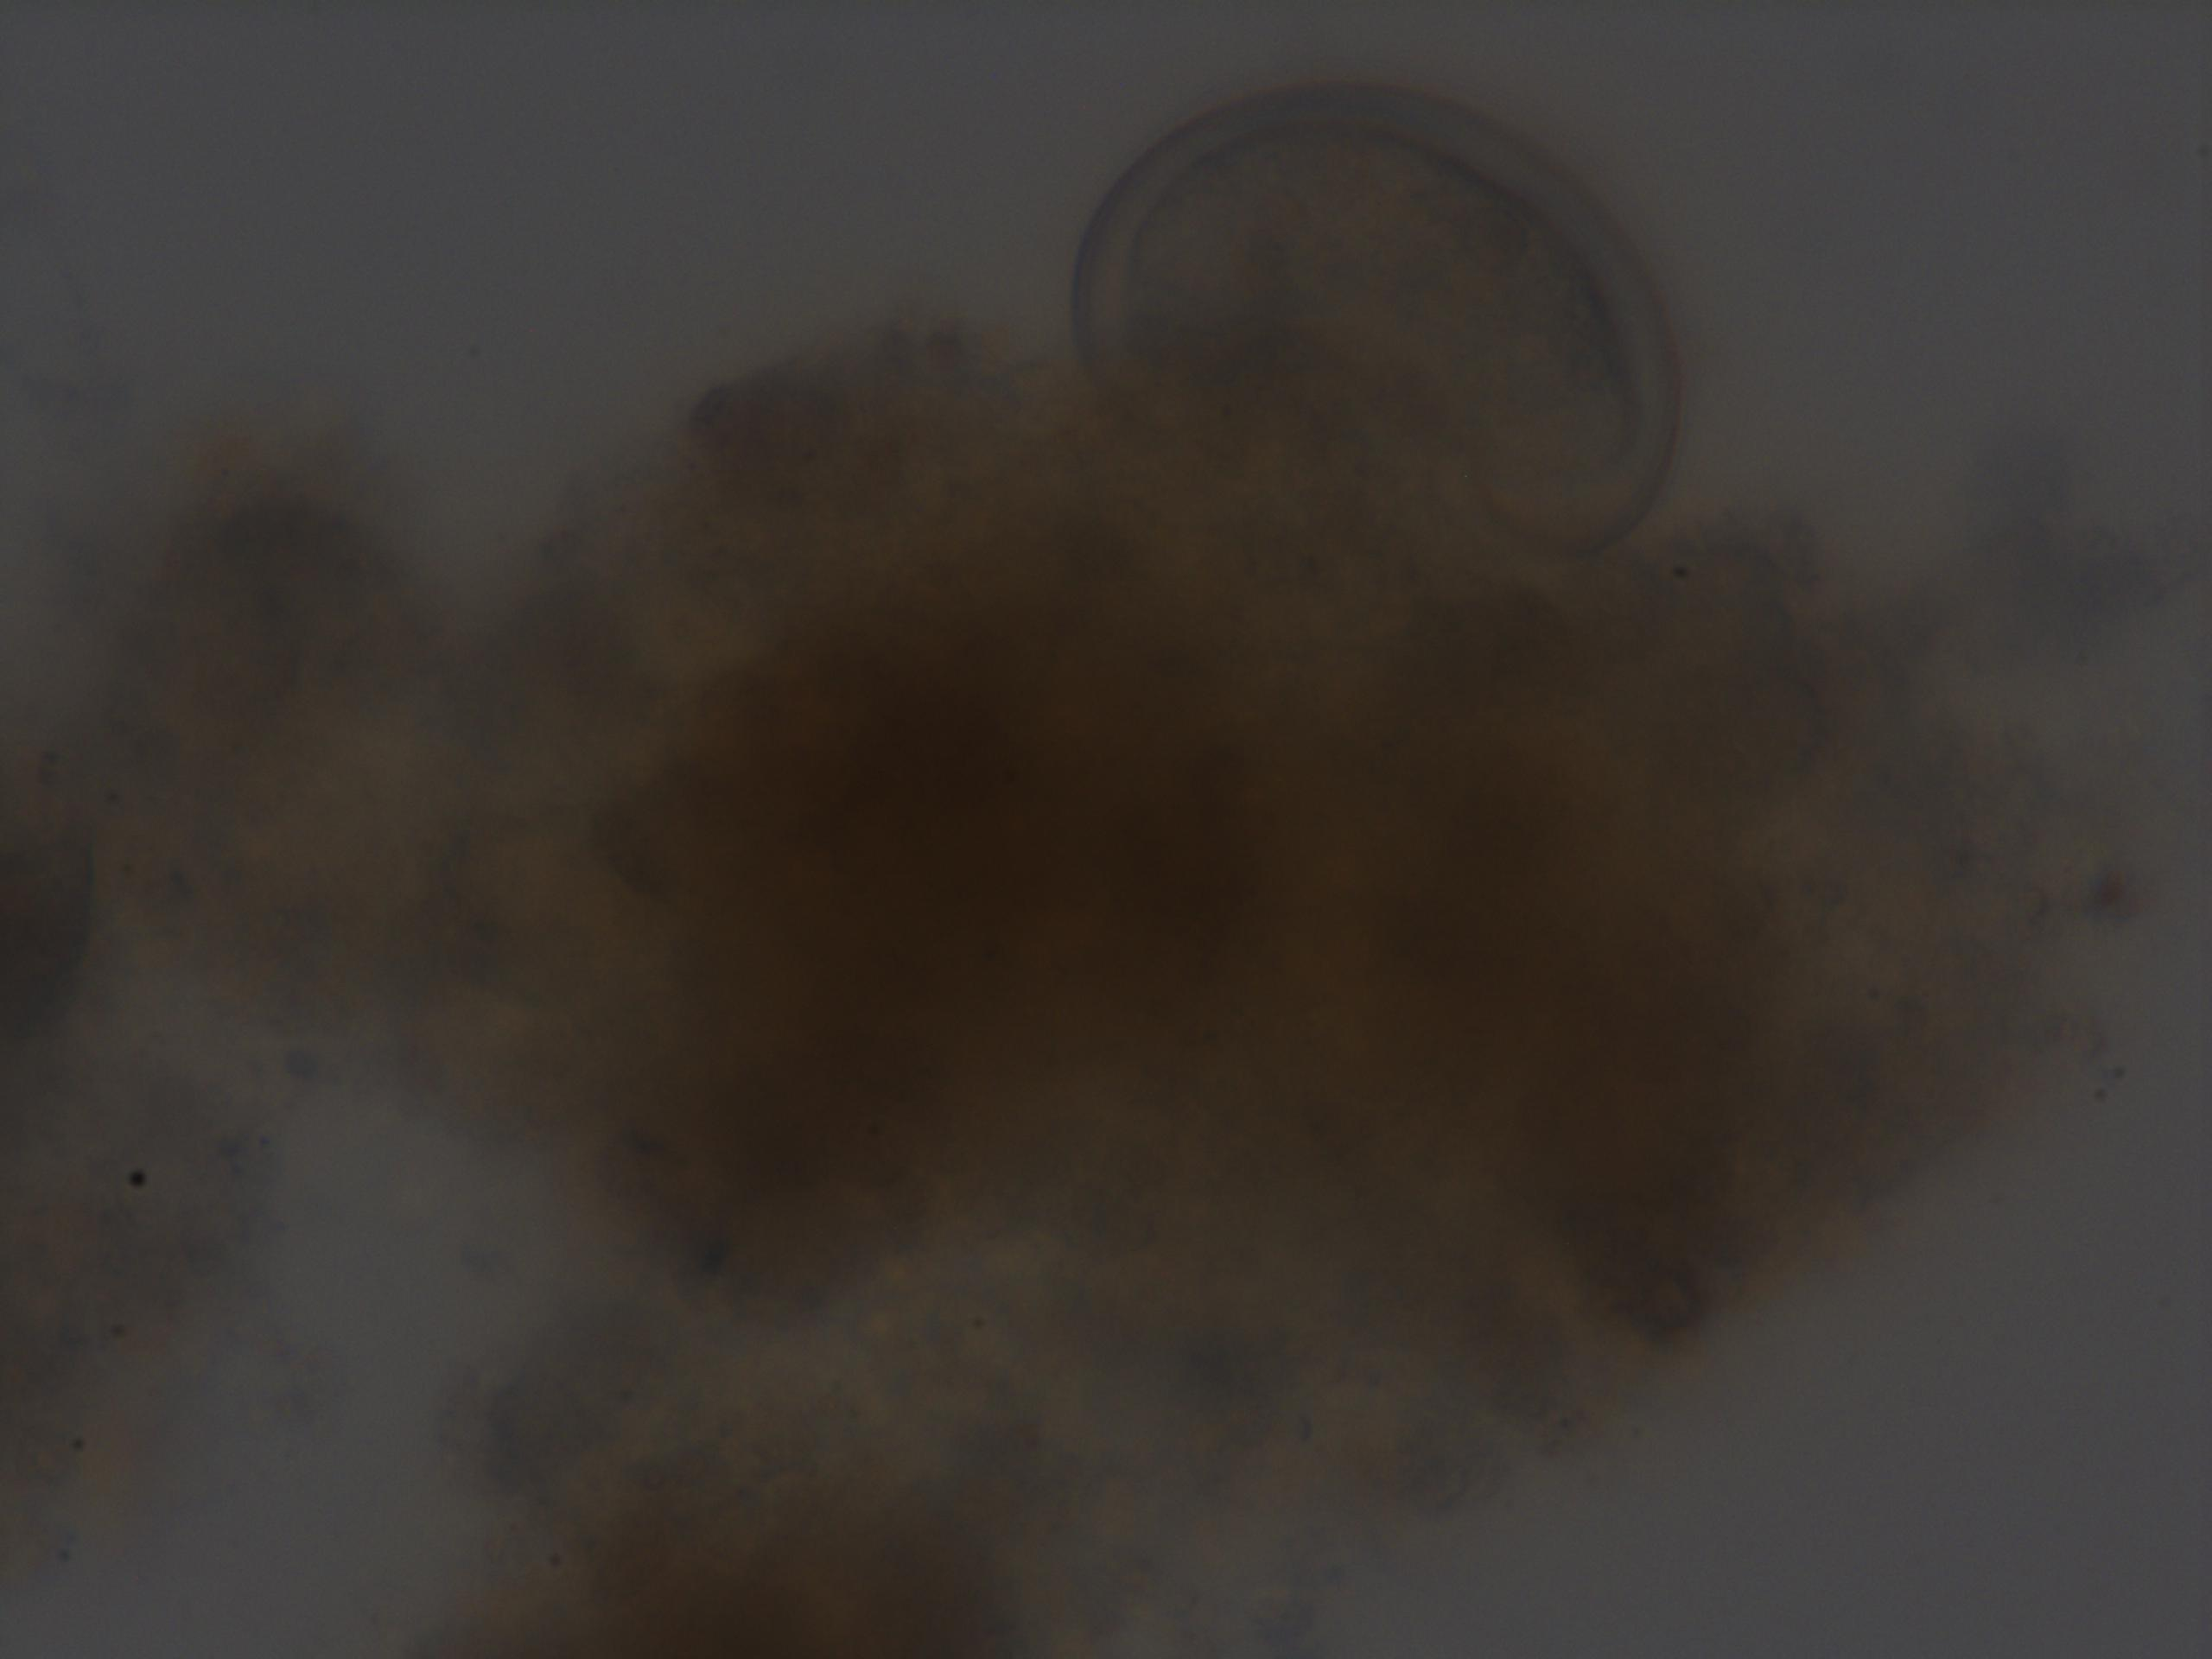protozoa: (1057, 68, 1695, 559)
